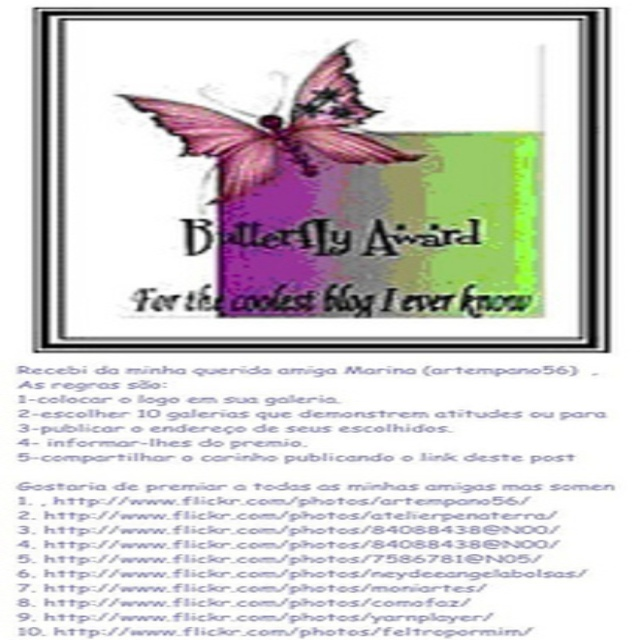Butterfly: (115, 42, 413, 186)
